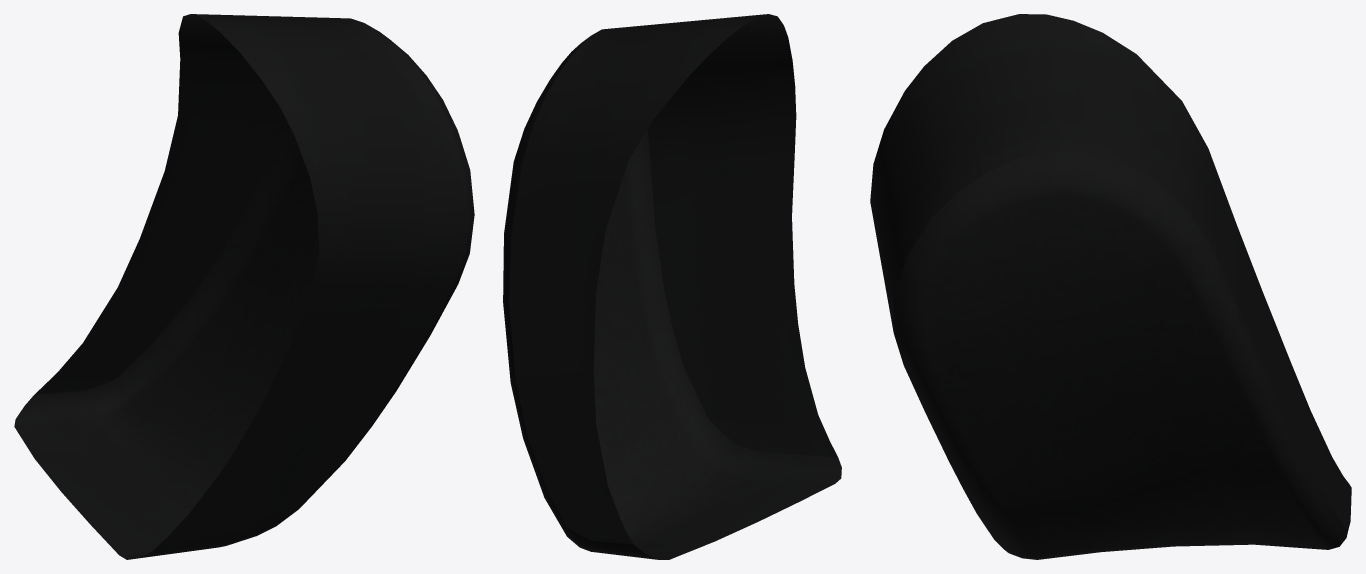
File: frame_controller_left_grip_button.obj
3 renders of one model, left to right at view 1: azimuth 30°, elevation 25°; view 2: azimuth 150°, elevation 25°; view 3: azimuth 270°, elevation 25°, orthographic. The views are drawn at different scales.
Parts seen in each view (by area): view 1: frame_controller_left_grip_button; view 2: frame_controller_left_grip_button; view 3: frame_controller_left_grip_button.
Boxes of the visible parts, x1,y1,x2,y2 form: frame_controller_left_grip_button: (14,14,474,559); frame_controller_left_grip_button: (503,14,841,559); frame_controller_left_grip_button: (870,14,1351,559).
Size of the model in its own units: 0.0151 by 0.0248 by 0.0204.
1 material, 1 textured.
